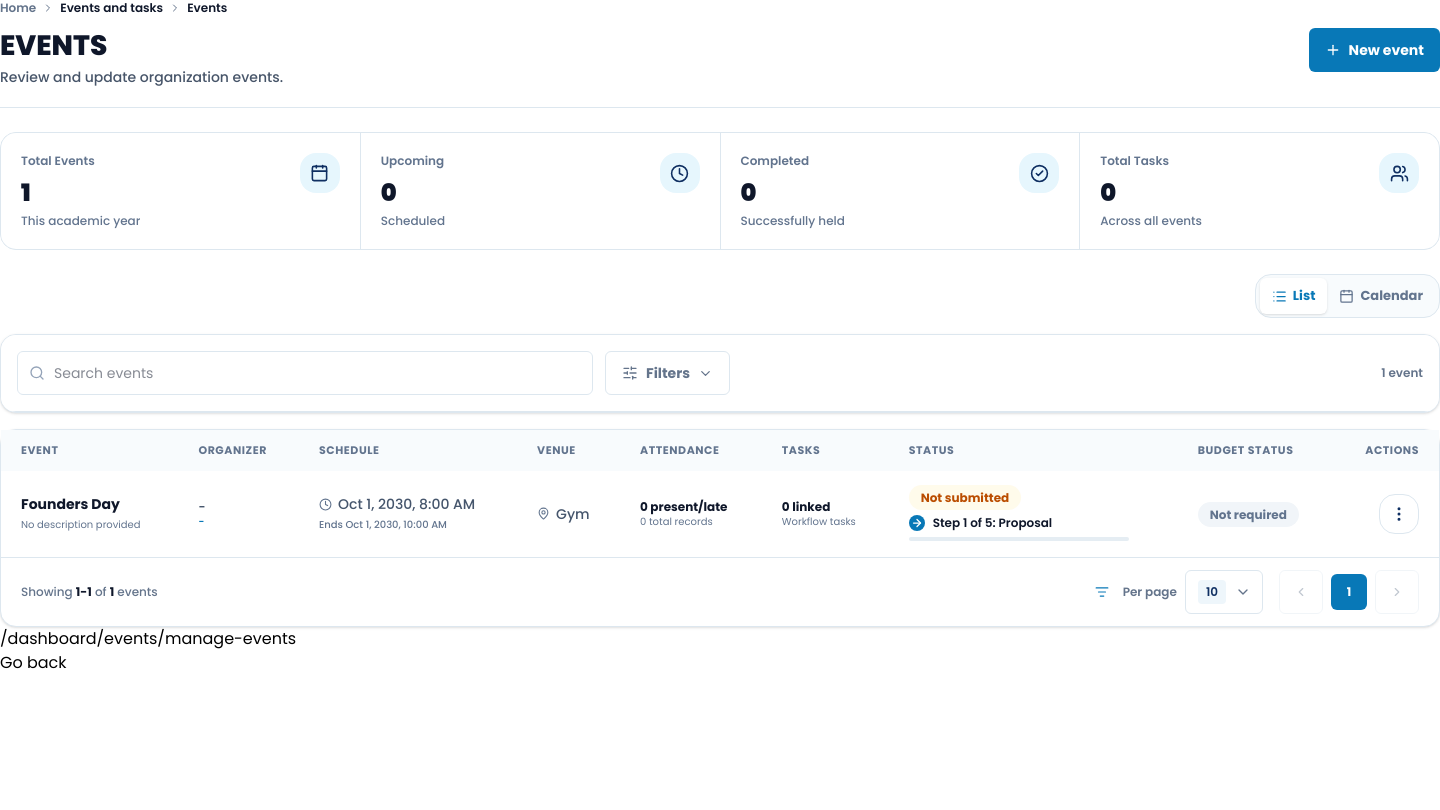
event drawer stage and next action › not_submitted for ADMIN says "Finish the proposal and submit it"
Click the button named "Actions for Founders Day": (1399, 514) [1379,494,1419,534]
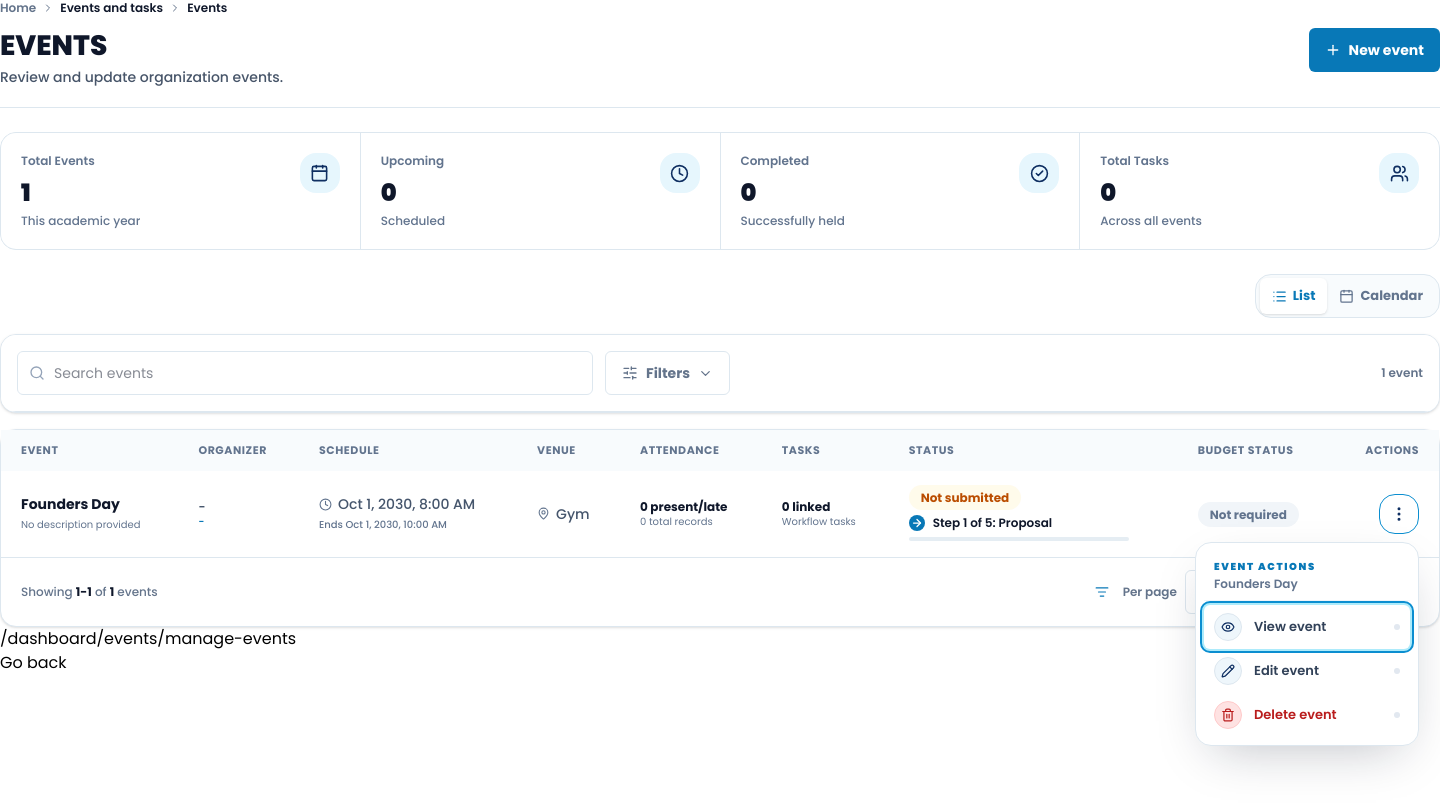
Click the menu item "View event": (1307, 626) [1204,604,1410,648]
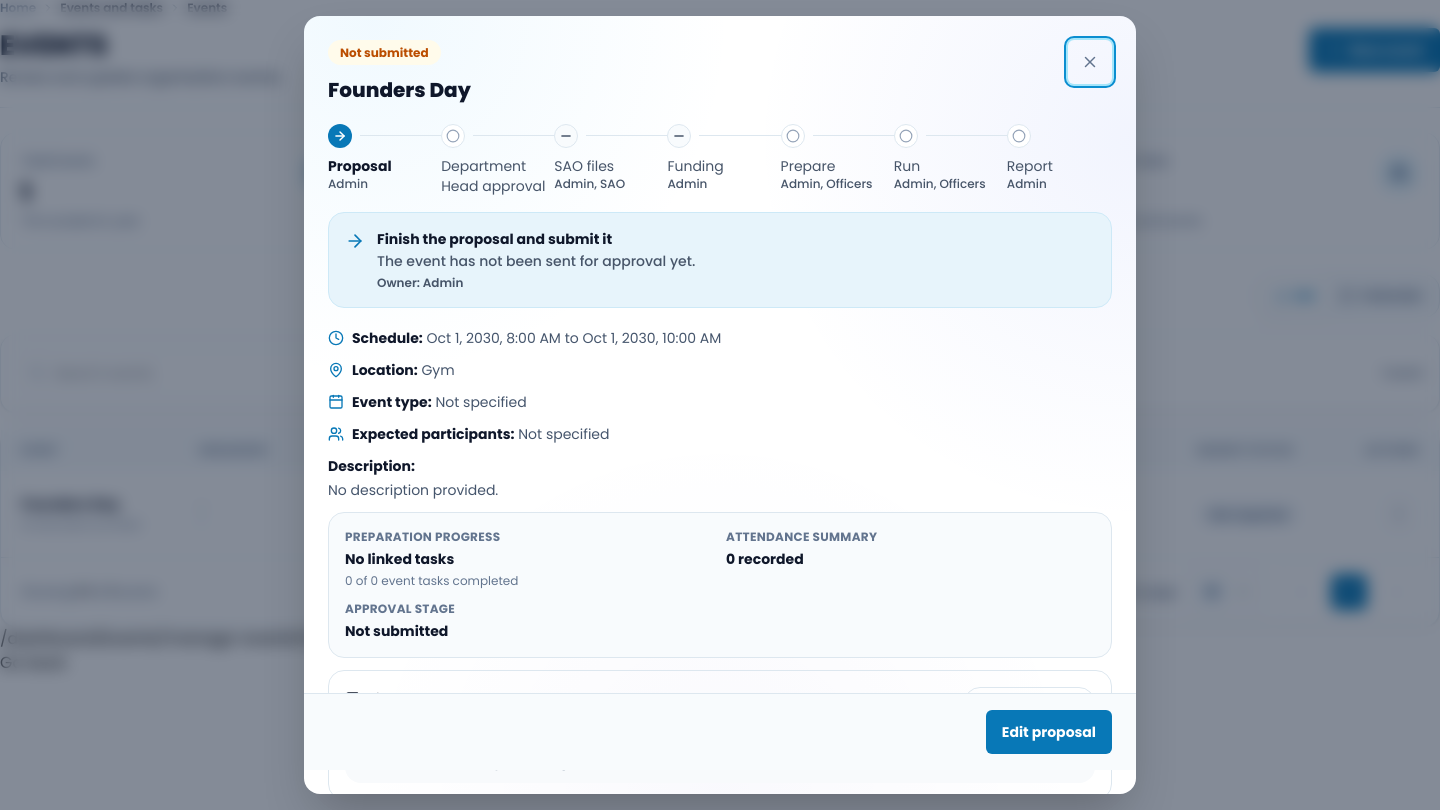
Check: the list named "Event progress" is shown, box [328,124,1112,196]
Check: the text "Finish the proposal and submit it" is shown, box [377,229,612,249]
